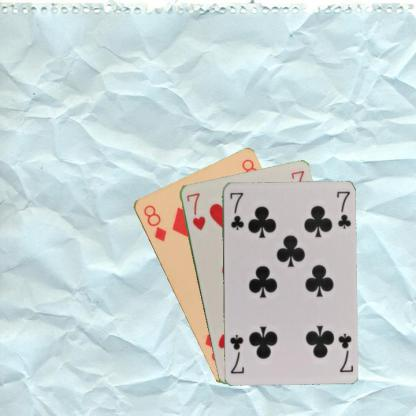7c: (335, 330, 354, 373), (227, 190, 245, 231)
7h: (183, 190, 207, 231)
8d: (140, 202, 168, 243)
